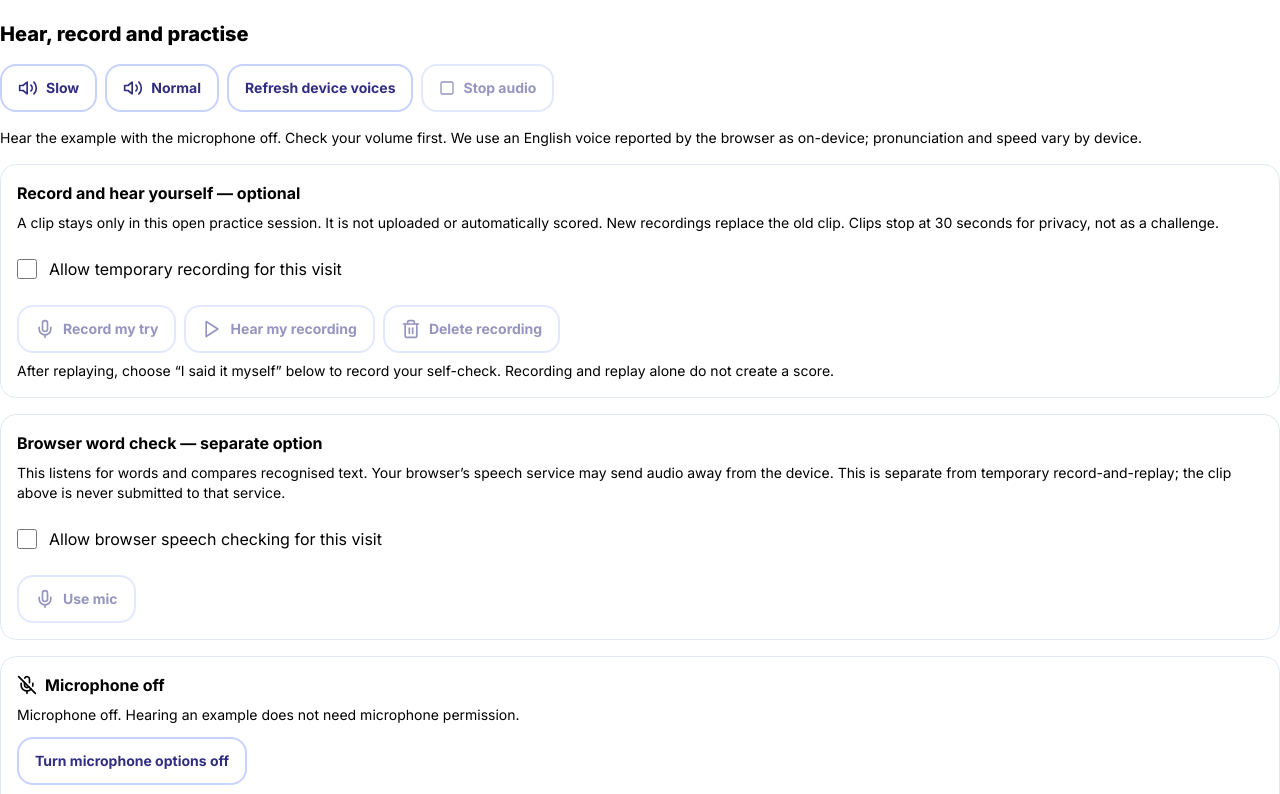
it: browser checking needs its separate opt-in and reports final words once
Click the checkbox labelled "Allow temporary recording for this visit": (27, 269) x1=17 y1=259 x2=37 y2=279
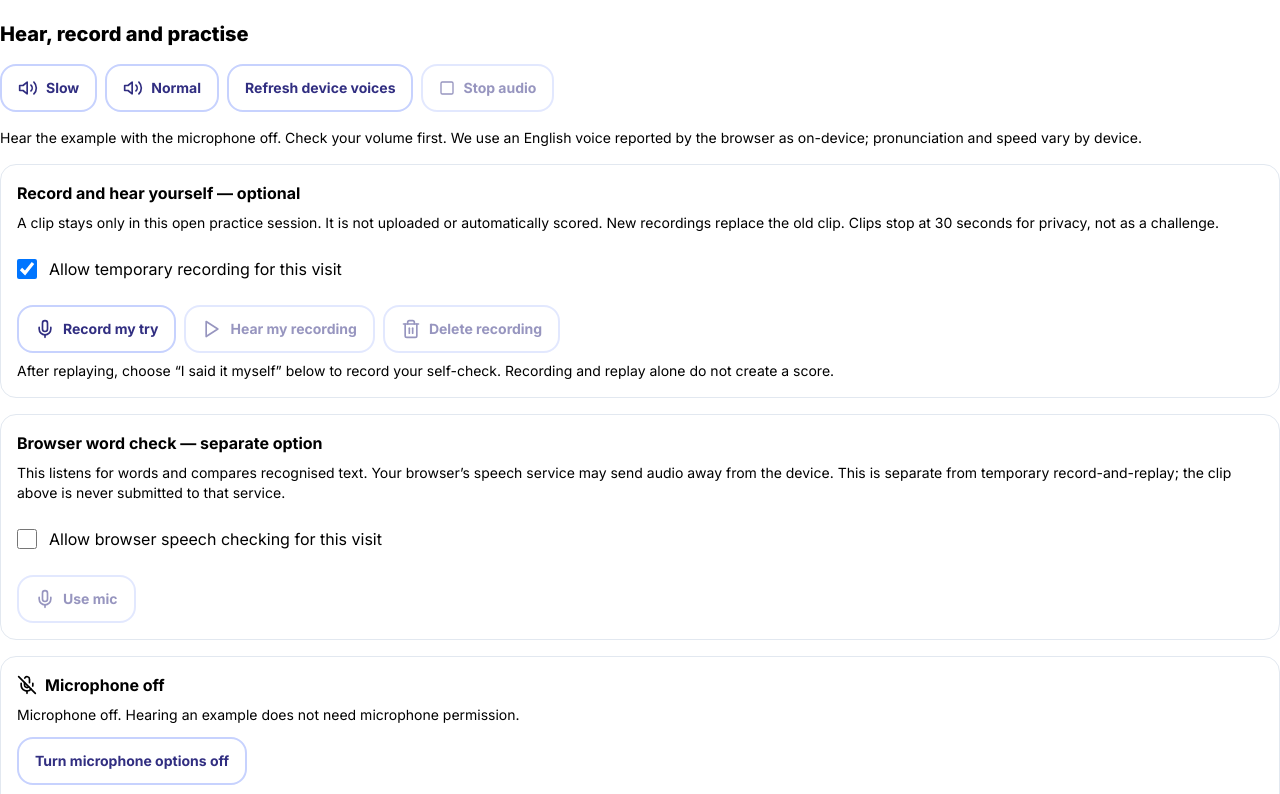
Expected: the button "Use mic" is disabled, x1=17 y1=575 x2=136 y2=623
Click the checkbox labelled "Allow browser speech checking for this visit": (27, 539) x1=17 y1=529 x2=37 y2=549
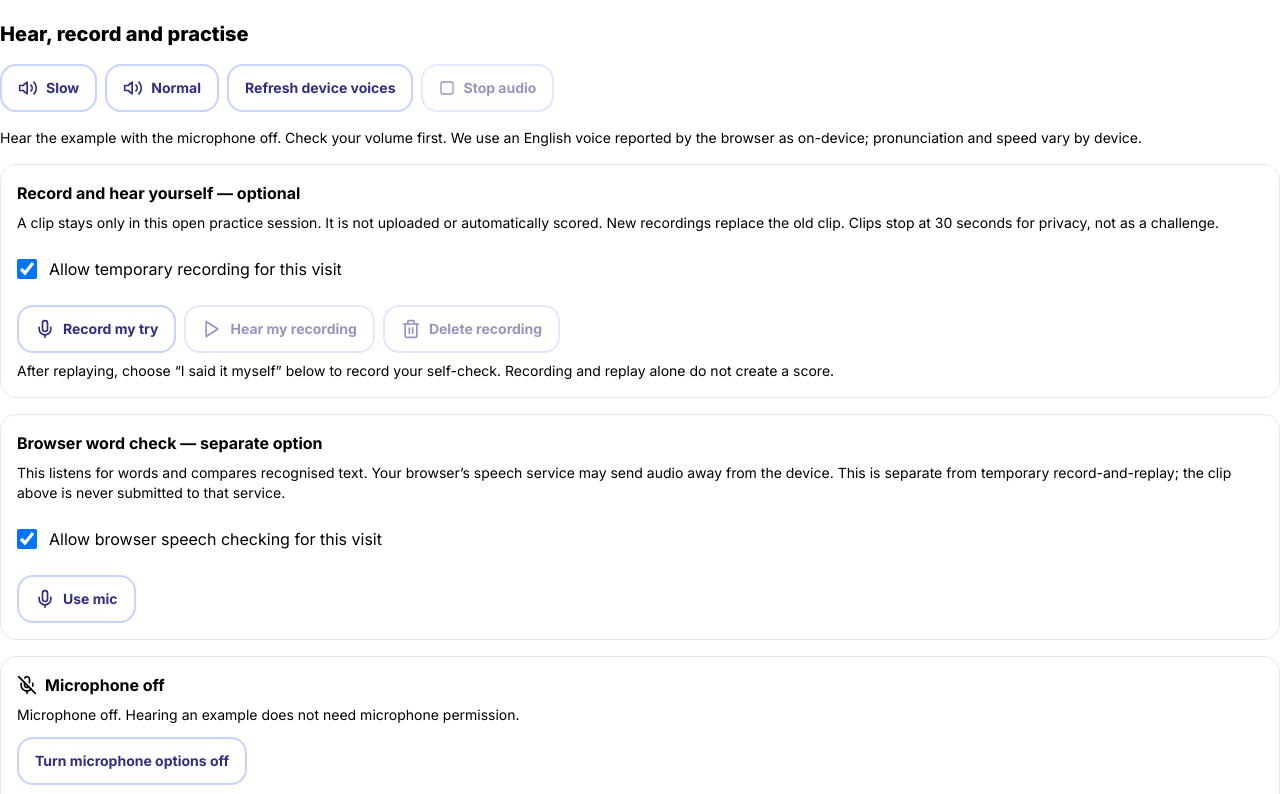
Click the button "Use mic": (76, 599) x1=17 y1=575 x2=136 y2=623
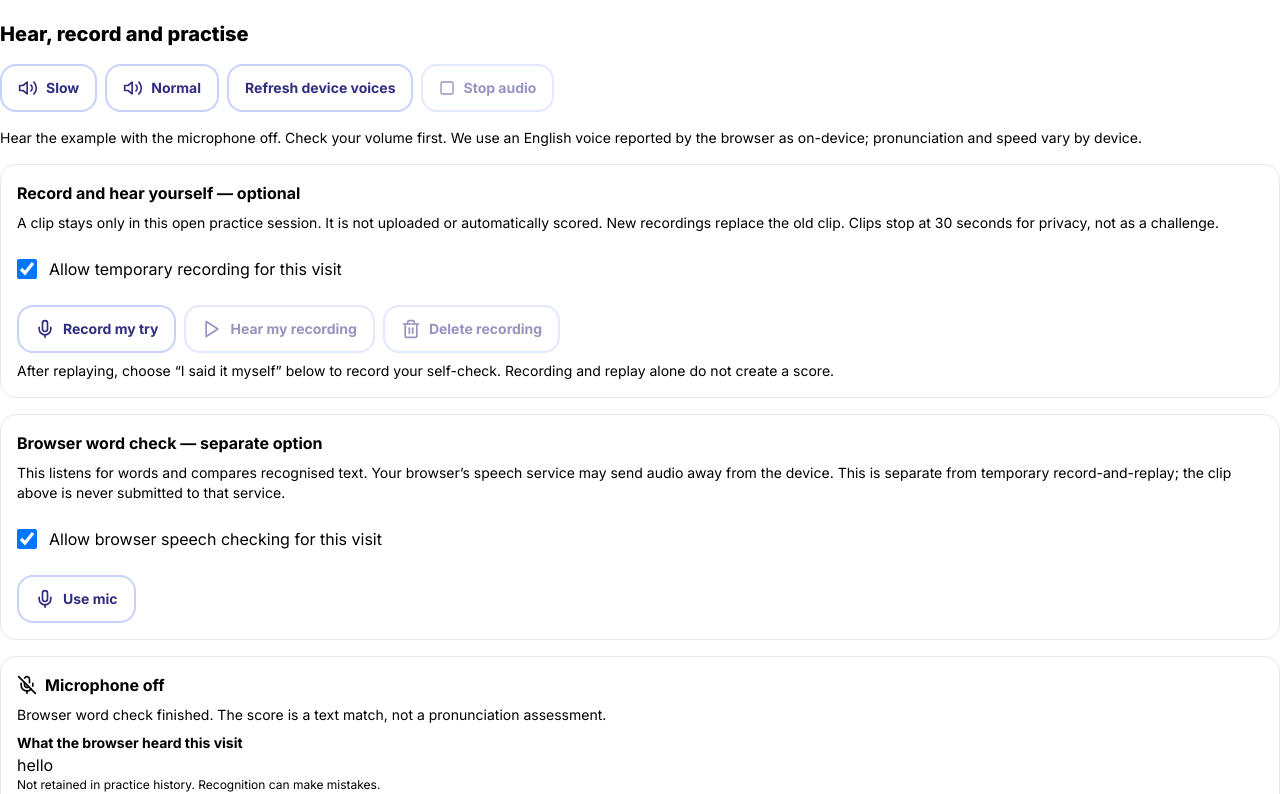
Expected: the text "Microphone checking words" is shown, x1=17 y1=675 x2=165 y2=695
Now the text "What the browser heard this visit" is shown, box x1=17 y1=734 x2=243 y2=751
